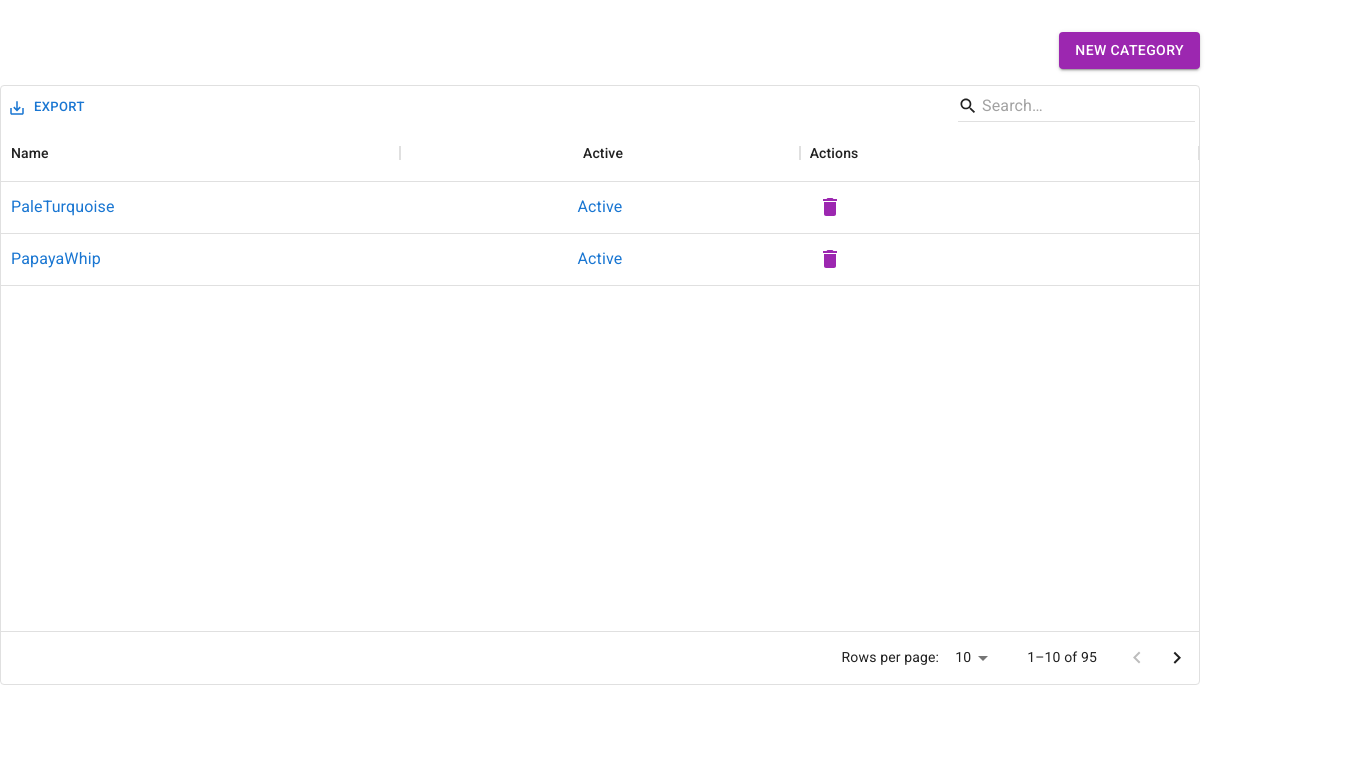
Scenario: CategoryList › should handle Delete Category success
expect the text "PaleTurquoise" is shown: met, box [11,195,115,219]
Step 1. Click the button with test id "delete-button" in the row of "PaleTurquoise" → (830, 207), box [810,187,850,227]
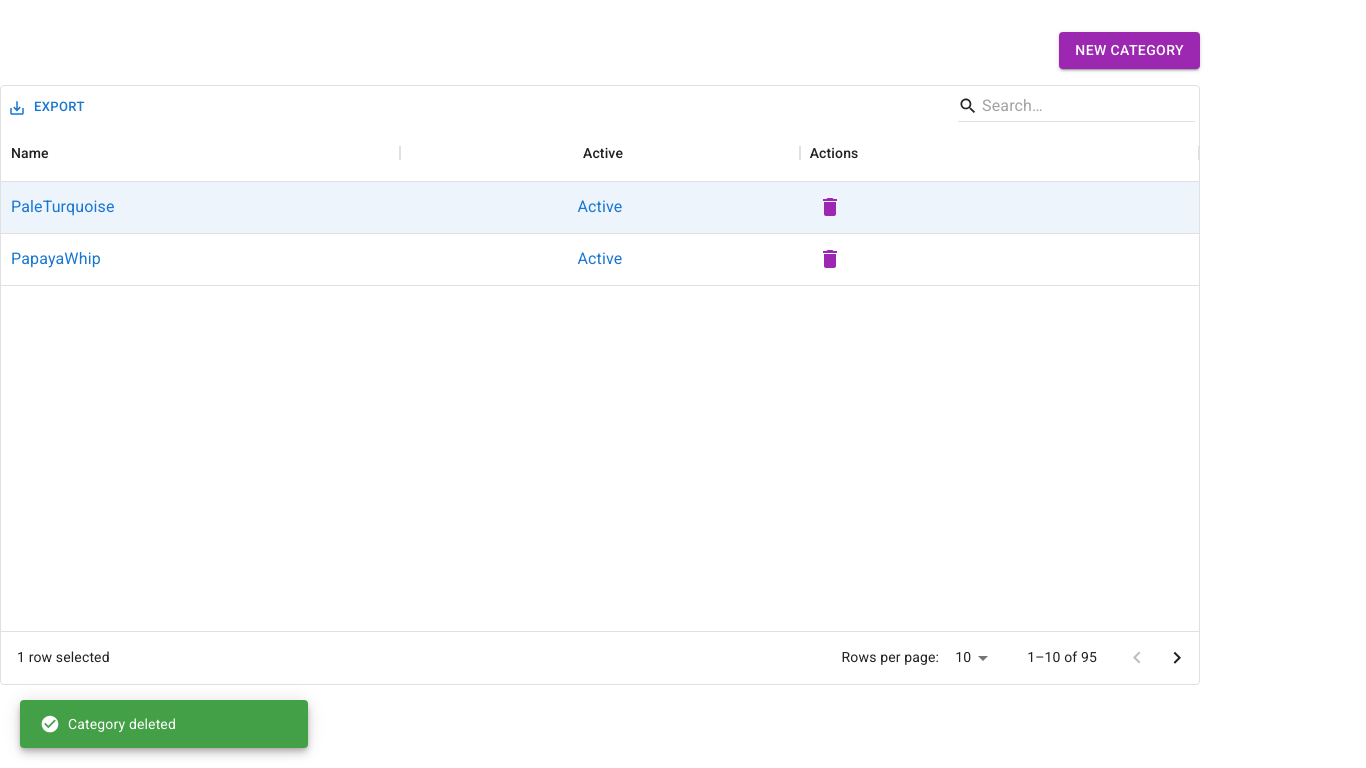
expect the text "Category deleted" is shown: met, box [40,714,176,734]
